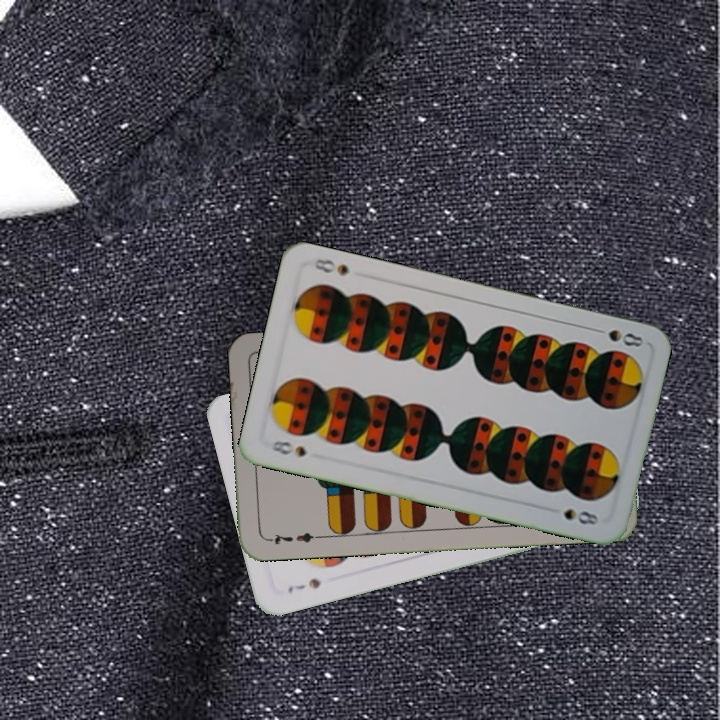E7: (263, 529, 322, 548)
S7: (284, 574, 324, 596)
S8: (604, 325, 646, 350), (267, 436, 309, 460)
